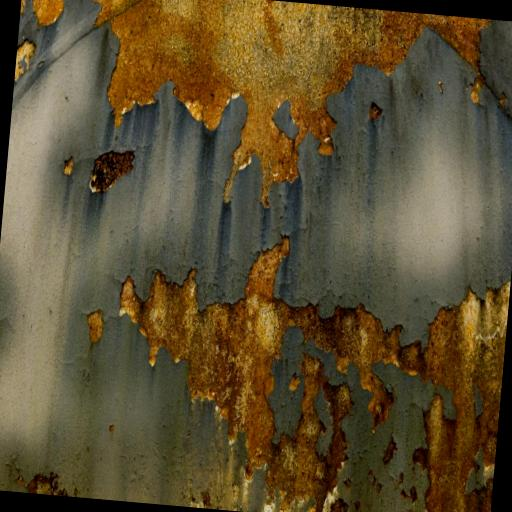segmentation: (94, 0, 489, 206), (119, 238, 320, 472), (423, 281, 510, 512), (268, 358, 331, 509), (333, 304, 401, 425), (293, 357, 323, 497), (324, 382, 352, 470), (90, 151, 135, 192), (27, 472, 68, 496), (398, 340, 423, 375), (334, 385, 351, 433), (32, 0, 63, 25), (87, 310, 104, 343), (383, 434, 397, 464), (330, 498, 348, 512)
